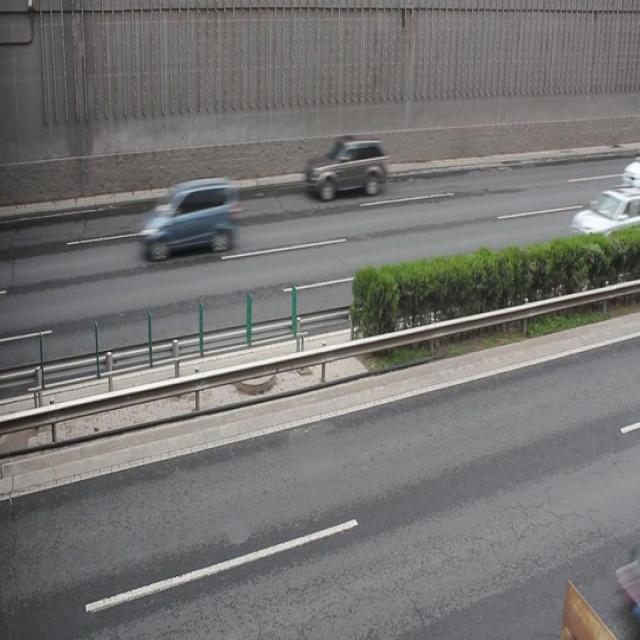car: (138, 172, 239, 259), (306, 133, 388, 200), (569, 188, 640, 254)
